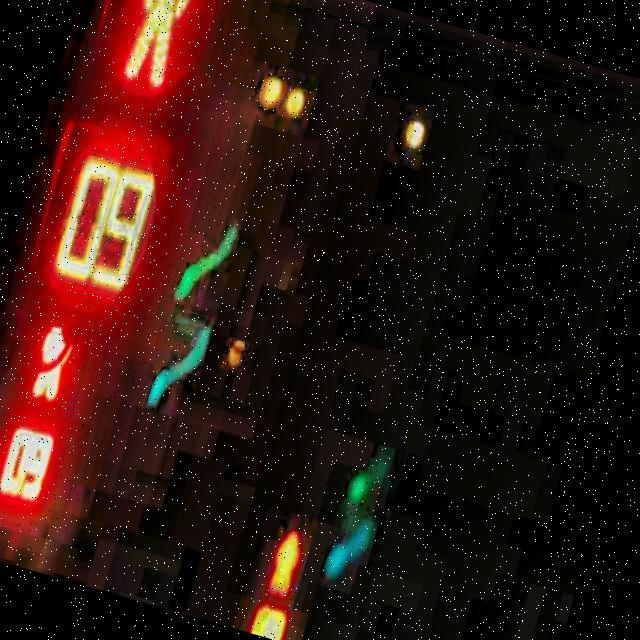red_light: (115, 0, 205, 91)
